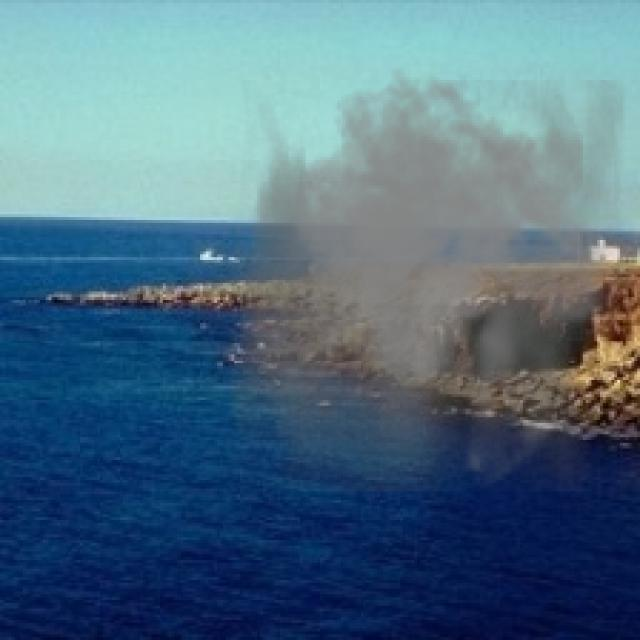Smoke: (228, 66, 626, 492)
